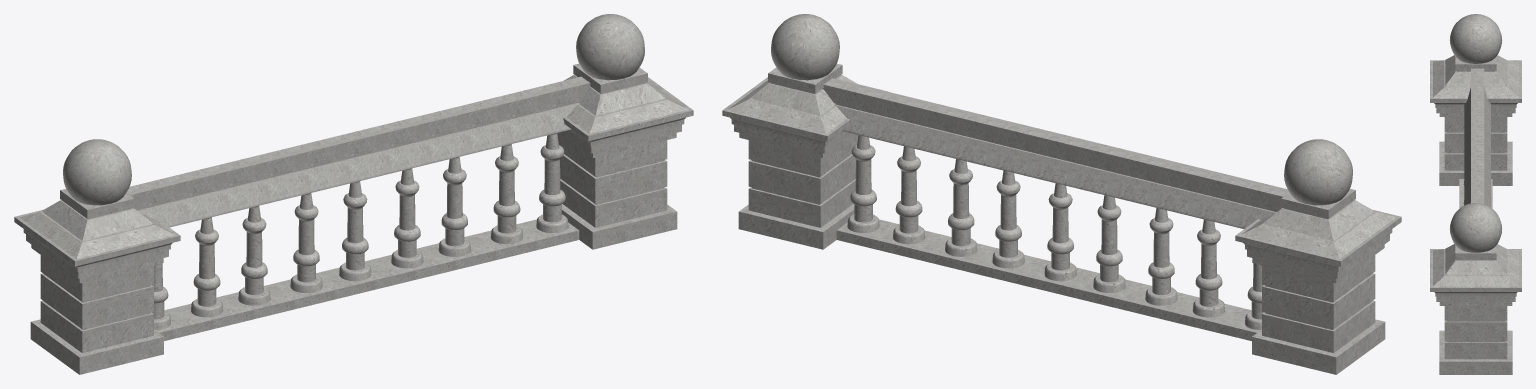
The model's file is objFence.obj.
3 views of the same model, side by side, from view 1: azimuth 30°, elevation 25°; view 2: azimuth 150°, elevation 25°; view 3: azimuth 270°, elevation 25° (orthographic). The views are drawn at different scales.
Parts seen in each view (by area): view 1: fence3; view 2: fence3; view 3: fence3.
Boxes of the visible parts, x1,y1,x2,y2 form: fence3: [14, 14, 693, 374]; fence3: [722, 14, 1401, 374]; fence3: [1430, 14, 1521, 374].
Bounding box in the file's own units: 4.45 × 1.4 × 0.7581.
